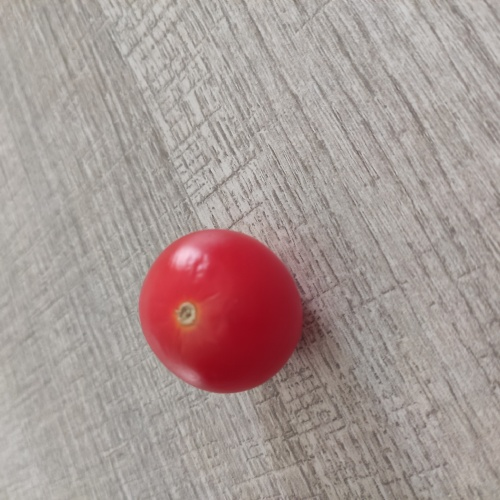pomodoro: (137, 225, 307, 399)
